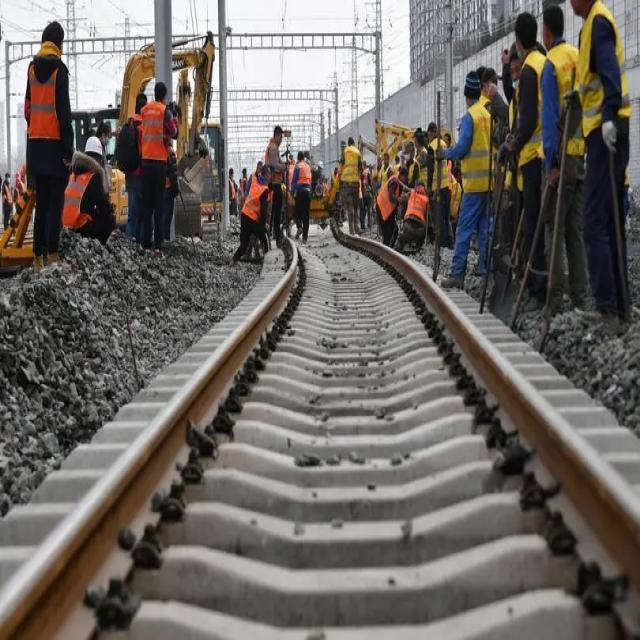people: (463, 4, 576, 330), (446, 69, 508, 297), (28, 17, 78, 266), (64, 135, 116, 259), (146, 82, 176, 250), (122, 81, 151, 228), (238, 164, 274, 269), (425, 122, 451, 250), (269, 122, 291, 256), (376, 164, 405, 258), (290, 150, 318, 246), (400, 172, 428, 254), (340, 133, 362, 233), (409, 122, 429, 216), (377, 145, 390, 204)
